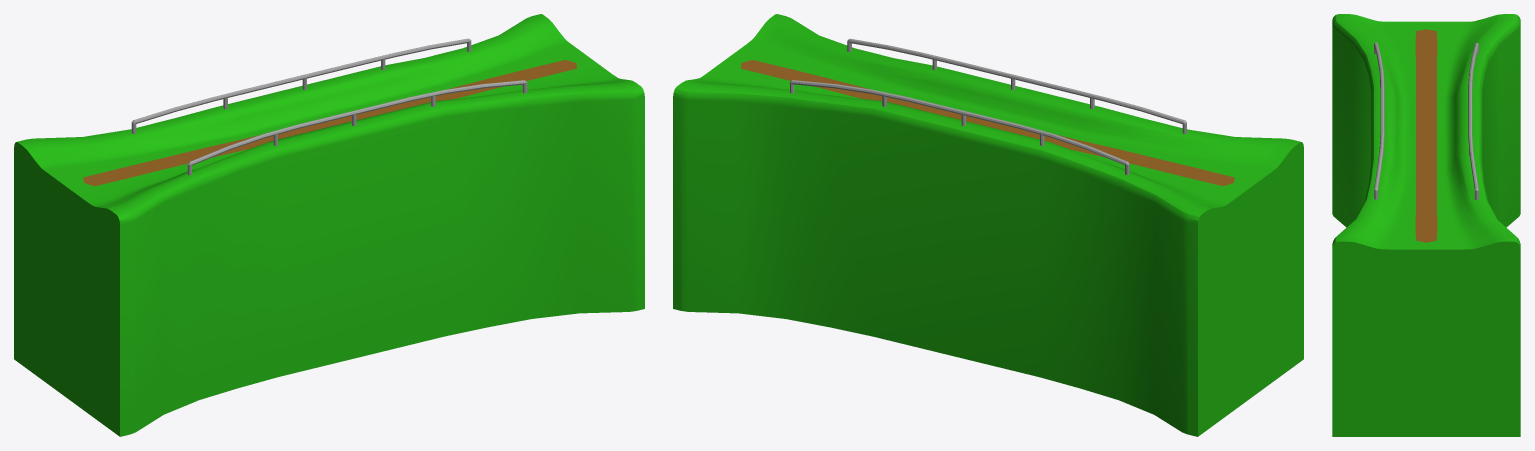
The model's file is дорожка для мото с подъемом.fbx.
The picture shows the model from 3 angles, left to right: view 1: azimuth 30°, elevation 25°; view 2: azimuth 150°, elevation 25°; view 3: azimuth 270°, elevation 25°; orthographic projection. The views are drawn at different scales.
Visible parts, largest first — view 1: Cube.026, Cylinder.002, Cylinder.003; view 2: Cube.026, Cylinder.003, Cylinder.002; view 3: Cube.026, Cylinder.002, Cylinder.003.
Part boxes in pixels (x1,y1,x2,y2): Cube.026: (14, 14, 644, 436); Cylinder.002: (187, 80, 527, 175); Cylinder.003: (131, 38, 471, 133); Cube.026: (673, 14, 1303, 436); Cylinder.003: (790, 80, 1129, 175); Cylinder.002: (847, 38, 1186, 133); Cube.026: (1332, 14, 1520, 436); Cylinder.002: (1374, 42, 1384, 199); Cylinder.003: (1468, 43, 1478, 199).
Size of the model in its own units: 2000 by 879 by 700.
